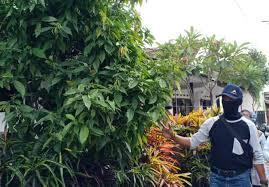jasmine: (69, 7, 262, 186)
